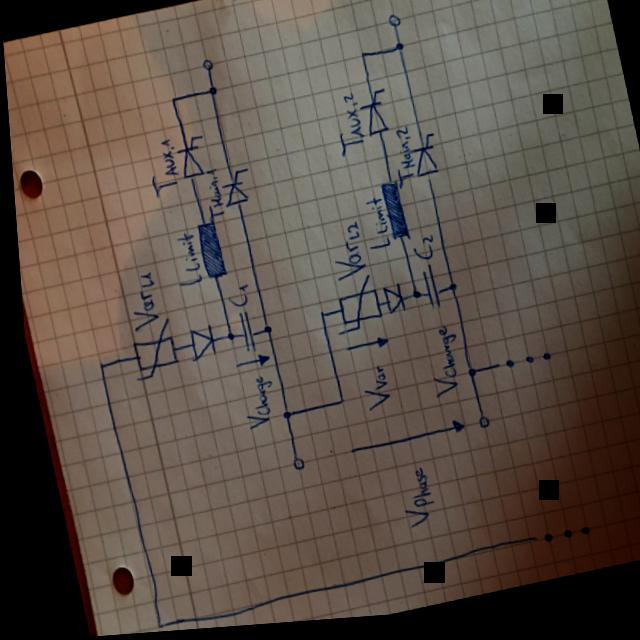capacitor: (413, 269, 439, 320), (229, 313, 252, 360)
diode: (178, 326, 211, 367), (376, 288, 400, 322)
inductor: (374, 184, 406, 251), (189, 224, 222, 285)
junction: (457, 370, 472, 387), (404, 294, 417, 308), (204, 88, 217, 101), (391, 47, 403, 61), (273, 413, 285, 425), (441, 289, 452, 300), (256, 328, 267, 339), (219, 334, 229, 346), (144, 624, 153, 634), (312, 316, 321, 325), (167, 98, 175, 108), (357, 57, 365, 66), (91, 364, 99, 372), (331, 403, 338, 412)
terminal: (488, 362, 509, 380), (523, 539, 545, 555), (468, 419, 483, 439), (385, 18, 400, 37), (282, 459, 297, 478), (198, 62, 212, 76)
text: (414, 330, 462, 408), (386, 471, 429, 537), (320, 225, 364, 289), (325, 96, 365, 164), (116, 273, 158, 337), (139, 139, 181, 203), (231, 377, 273, 435), (382, 131, 417, 198), (162, 232, 200, 293), (353, 201, 388, 258), (351, 370, 386, 418), (195, 171, 223, 228), (404, 240, 433, 270), (219, 286, 247, 314)
thyristor: (353, 95, 388, 146), (404, 140, 437, 193), (169, 138, 202, 187), (213, 172, 246, 215)
